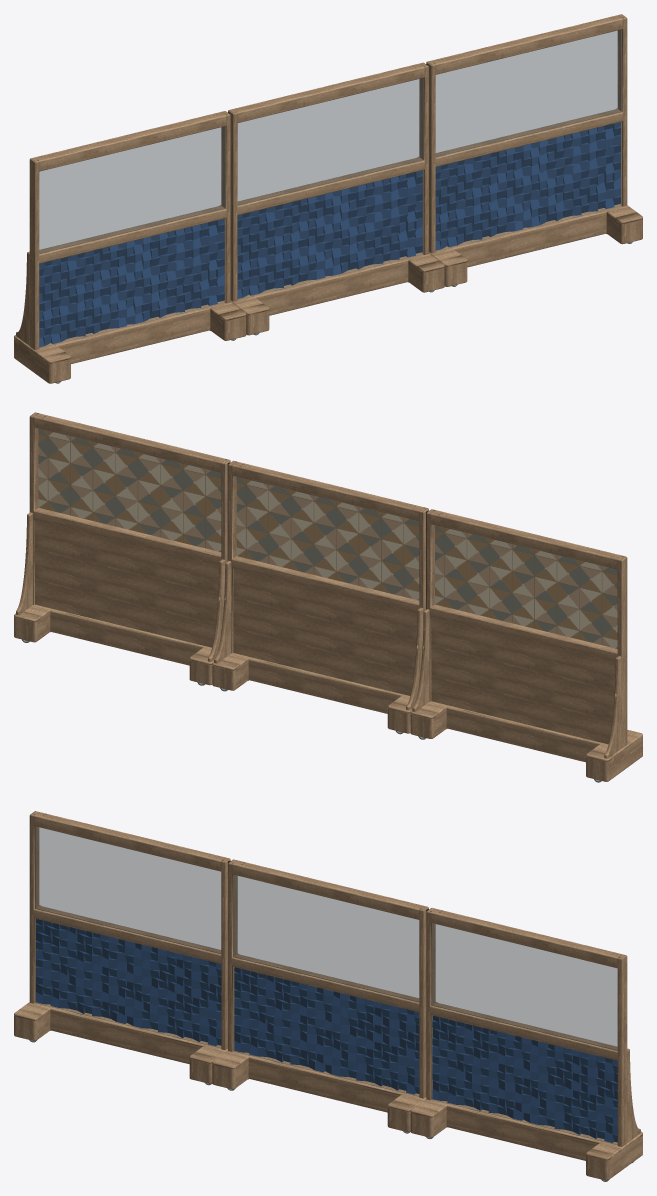
File: v10-linen-marquetry-three.glb
The picture shows the model from 3 angles, top to bottom: view 1: azimuth 30°, elevation 25°; view 2: azimuth 150°, elevation 25°; view 3: azimuth 330°, elevation 25°; orthographic projection.
Visible parts, largest first — view 1: Left Wood, Right Cover glass, Right Navy Everwood relief, Left Navy Everwood relief, Navy Everwood relief, Left Cover glass, Cover glass, Left Linen Marquetry charcoal reverse, Linen Marquetry charcoal reverse, Right Linen Marquetry charcoal reverse, Wood, Right Wood; view 2: Left Wood, Right Wood, Wood, Linen Marquetry printed face, Right Linen Marquetry printed face, Left Linen Marquetry printed face; view 3: Right Wood, Left Cover glass, Left Navy Everwood relief, Right Navy Everwood relief, Navy Everwood relief, Cover glass, Right Cover glass, Right Linen Marquetry charcoal reverse, Left Linen Marquetry charcoal reverse, Linen Marquetry charcoal reverse, Wood, Left Wood.
Boxes of the visible parts, <box> form: Left Wood: <box>14,111,246,383</box>; Right Cover glass: <box>436,122,621,250</box>; Right Navy Everwood relief: <box>435,122,620,250</box>; Left Navy Everwood relief: <box>39,219,224,347</box>; Navy Everwood relief: <box>237,170,422,298</box>; Left Cover glass: <box>40,219,224,346</box>; Cover glass: <box>238,171,422,298</box>; Left Linen Marquetry charcoal reverse: <box>39,126,225,253</box>; Linen Marquetry charcoal reverse: <box>238,78,423,205</box>; Right Linen Marquetry charcoal reverse: <box>436,30,621,156</box>; Wood: <box>228,62,444,335</box>; Right Wood: <box>426,14,642,286</box>; Left Wood: <box>410,509,642,781</box>; Right Wood: <box>14,412,230,685</box>; Wood: <box>212,460,428,733</box>; Linen Marquetry printed face: <box>236,477,419,600</box>; Right Linen Marquetry printed face: <box>38,428,221,551</box>; Left Linen Marquetry printed face: <box>435,525,617,648</box>; Right Wood: <box>410,908,642,1180</box>; Left Cover glass: <box>35,919,220,1047</box>; Left Navy Everwood relief: <box>36,919,221,1046</box>; Right Navy Everwood relief: <box>432,1015,617,1142</box>; Navy Everwood relief: <box>234,967,419,1094</box>; Cover glass: <box>234,968,418,1095</box>; Right Cover glass: <box>432,1016,616,1143</box>; Right Linen Marquetry charcoal reverse: <box>431,923,617,1050</box>; Left Linen Marquetry charcoal reverse: <box>35,826,220,953</box>; Linen Marquetry charcoal reverse: <box>233,875,418,1001</box>; Wood: <box>212,859,428,1132</box>; Left Wood: <box>14,811,230,1083</box>.
Bounding box in the file's own units: 5.49 × 1.91 × 0.5842.
Materials: 12 (2 with a texture image).
